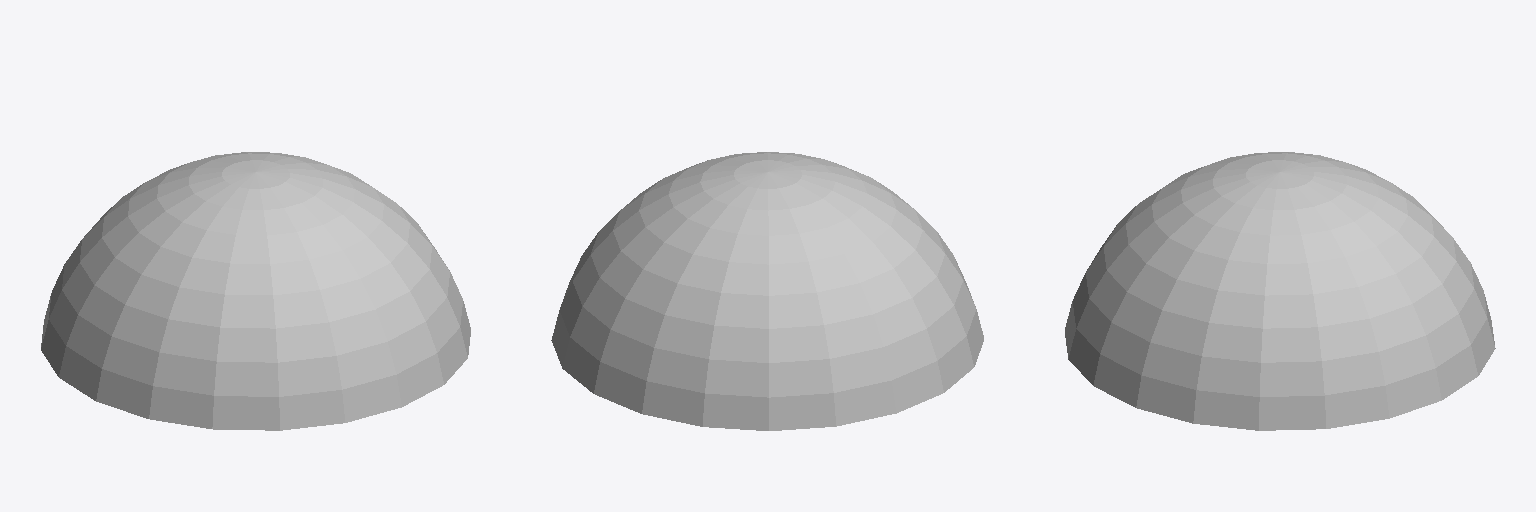
The model's file is Atrium_Roof.obj.
The picture shows the model from 3 angles: view 1: azimuth 30°, elevation 25°; view 2: azimuth 150°, elevation 25°; view 3: azimuth 270°, elevation 25°; orthographic projection.
Parts seen in each view (by area): view 1: pSphere2; view 2: pSphere2; view 3: pSphere2.
Part boxes in pixels (bbox=[...]): pSphere2: bbox=[41, 152, 470, 430]; pSphere2: bbox=[551, 152, 983, 430]; pSphere2: bbox=[1065, 152, 1495, 430].
Bounding box in the file's own units: 6879 × 2952 × 6879.